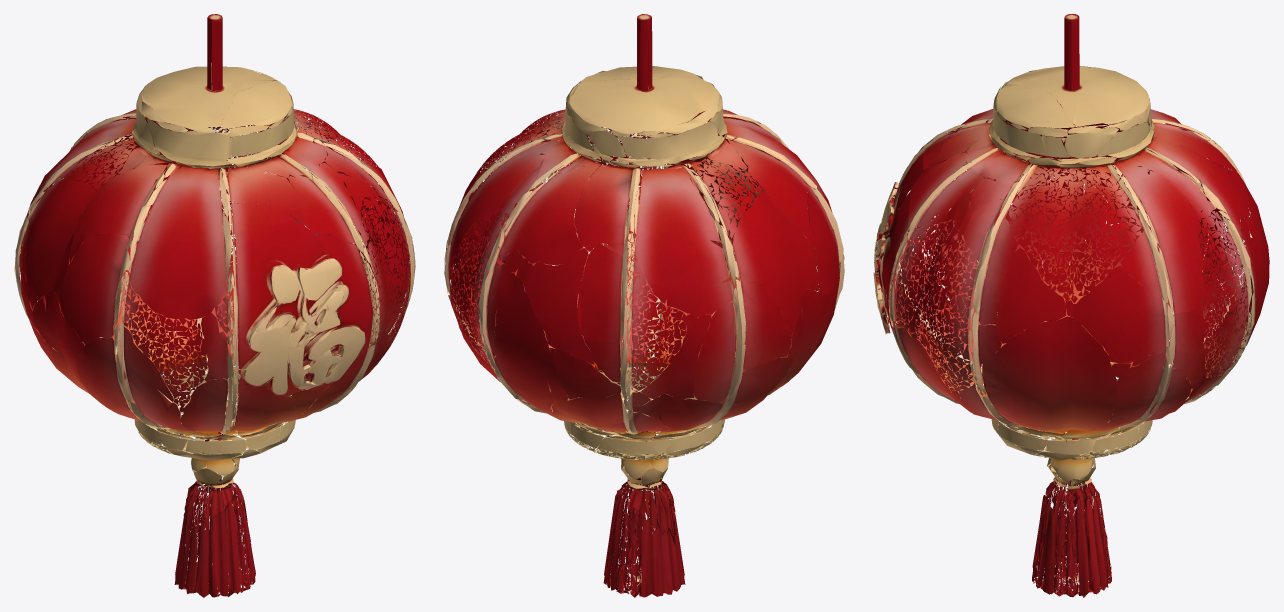
File: lantern.glb
3 views of the same model, side by side, from view 1: azimuth 30°, elevation 25°; view 2: azimuth 150°, elevation 25°; view 3: azimuth 270°, elevation 25° (orthographic).
Visible parts, largest first — view 1: node_0; view 2: node_0; view 3: node_0.
Part boxes in pixels (x1,y1,x2,y2): node_0: (14, 14, 415, 597); node_0: (444, 14, 844, 597); node_0: (873, 14, 1269, 597).
Size of the model in its own units: 0.7359 by 1.19 by 0.7573.
Materials: 1 (1 with a texture image).
